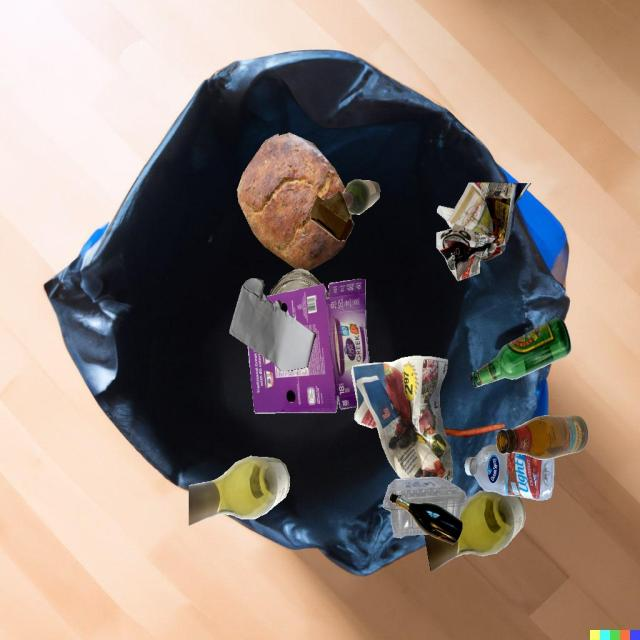biowaste: (237, 133, 346, 271), (444, 423, 505, 437)
cardboard: (248, 279, 369, 413), (310, 190, 354, 241)
glass: (425, 490, 525, 571), (469, 318, 571, 388), (189, 456, 290, 526), (496, 415, 589, 459), (389, 494, 463, 545), (269, 269, 322, 296), (342, 179, 380, 215)
paper: (351, 356, 453, 482), (436, 182, 531, 281), (229, 278, 316, 371)
plastic: (383, 477, 468, 538), (464, 444, 554, 501)
